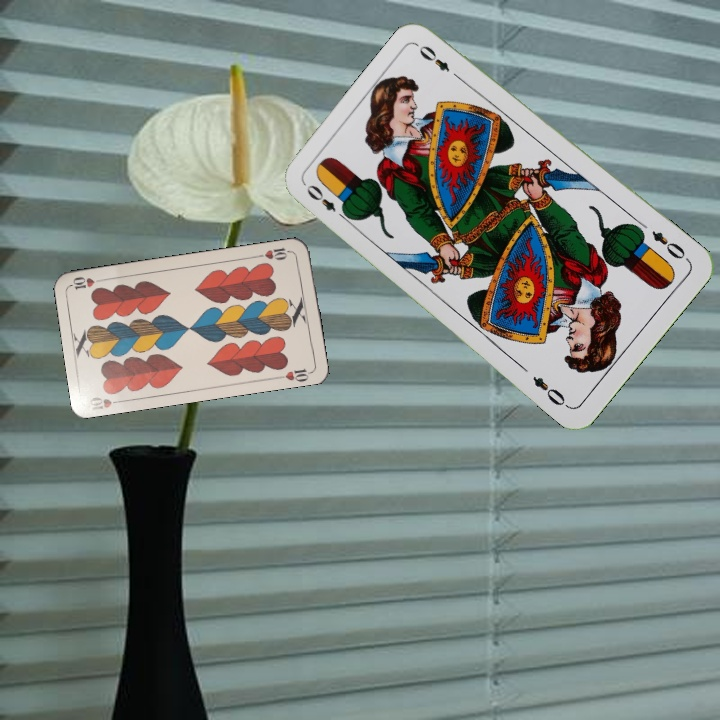EO: (302, 180, 351, 224), (647, 226, 692, 264)
H10: (254, 243, 295, 263), (86, 392, 126, 412)
